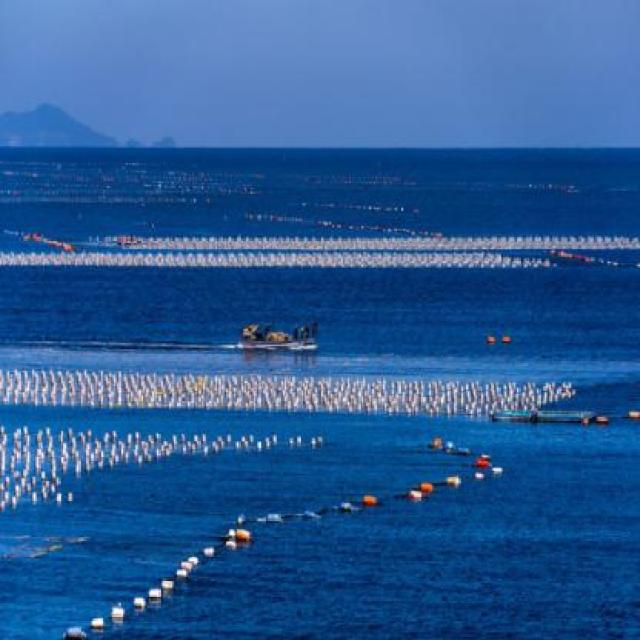a: (335, 496, 364, 518), (129, 590, 151, 619), (594, 403, 611, 437), (147, 581, 166, 609), (471, 451, 494, 474), (443, 472, 467, 492), (159, 576, 180, 598), (171, 570, 194, 587), (90, 614, 113, 631), (238, 438, 264, 453), (52, 494, 76, 510), (490, 465, 515, 480), (110, 599, 127, 621), (403, 493, 423, 509), (304, 507, 320, 527), (443, 439, 459, 458), (417, 480, 434, 497), (236, 527, 254, 543), (628, 407, 640, 430), (226, 537, 241, 554), (202, 541, 219, 556), (429, 431, 440, 454), (472, 473, 487, 489), (290, 432, 304, 449), (313, 432, 327, 449), (487, 332, 501, 347), (363, 493, 379, 506), (267, 509, 278, 525), (504, 334, 513, 346)
